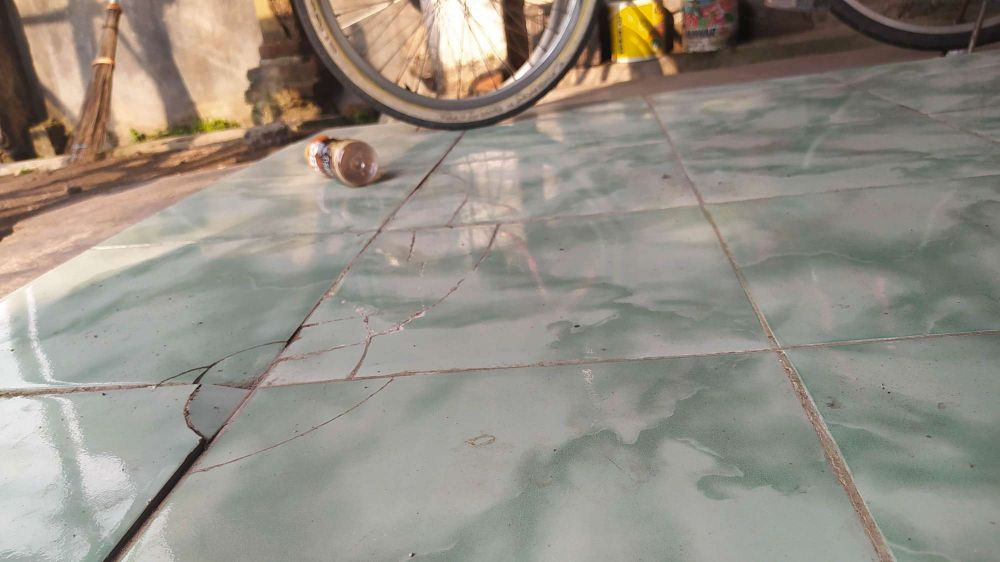botol: (284, 123, 387, 190)
